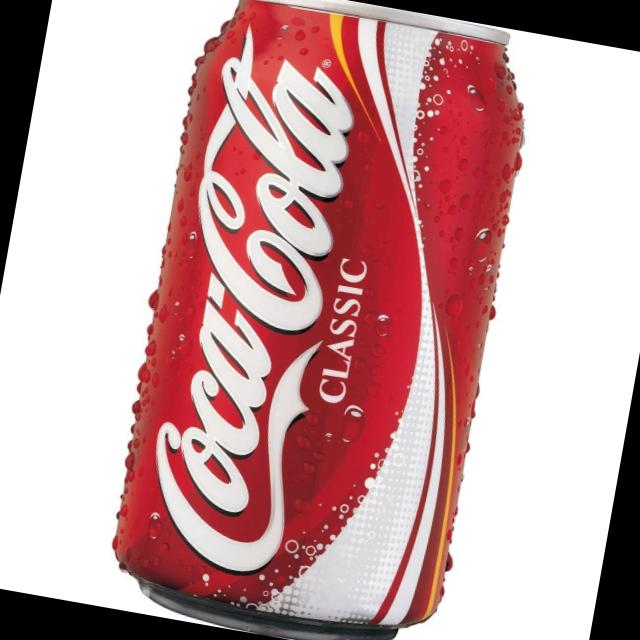soda_can: (85, 0, 565, 640)
